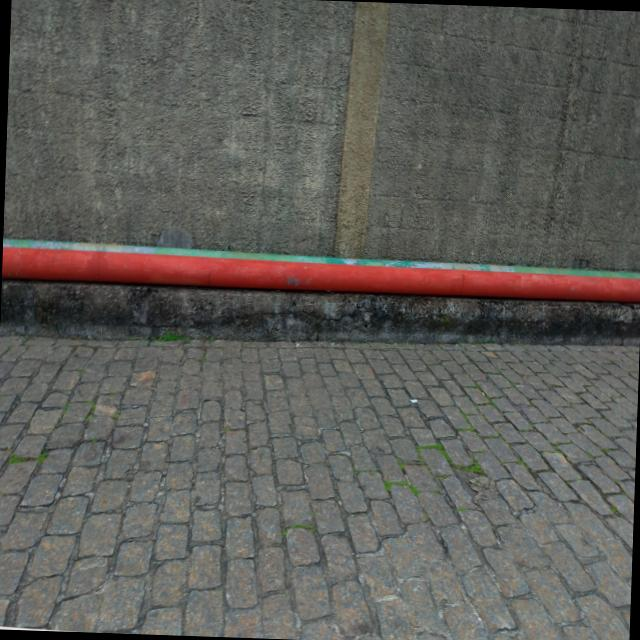gas: (1, 246, 640, 302)
